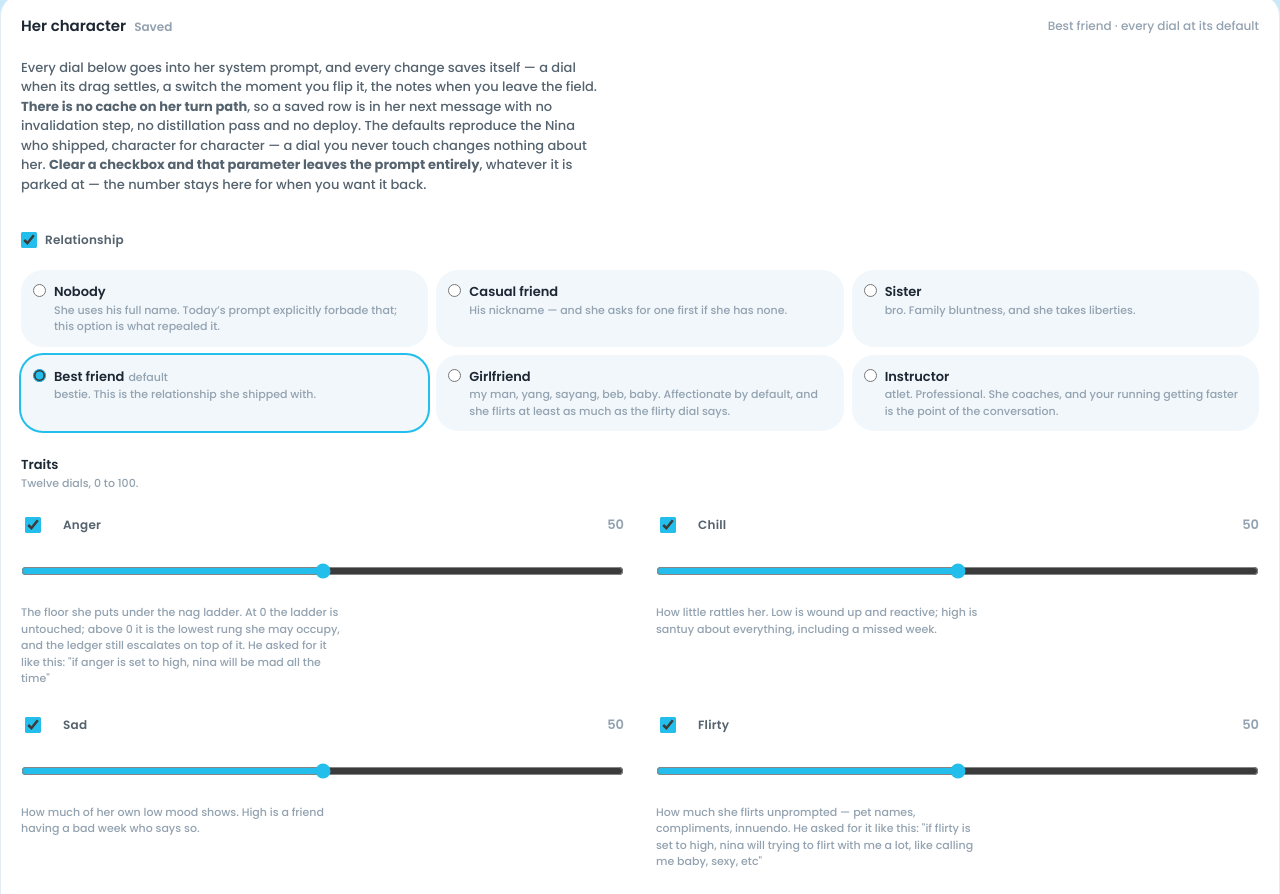
Test case: CharacterPanel — the pipeline’s answers › keeps the panel editable and shows Unsaved edits when a save is refused
The image size is (1280, 894).
Set the slider labelled "Anger" to "55" at (352, 571), box [21, 549, 624, 593]
Wait 600 ms
(page scrolled)
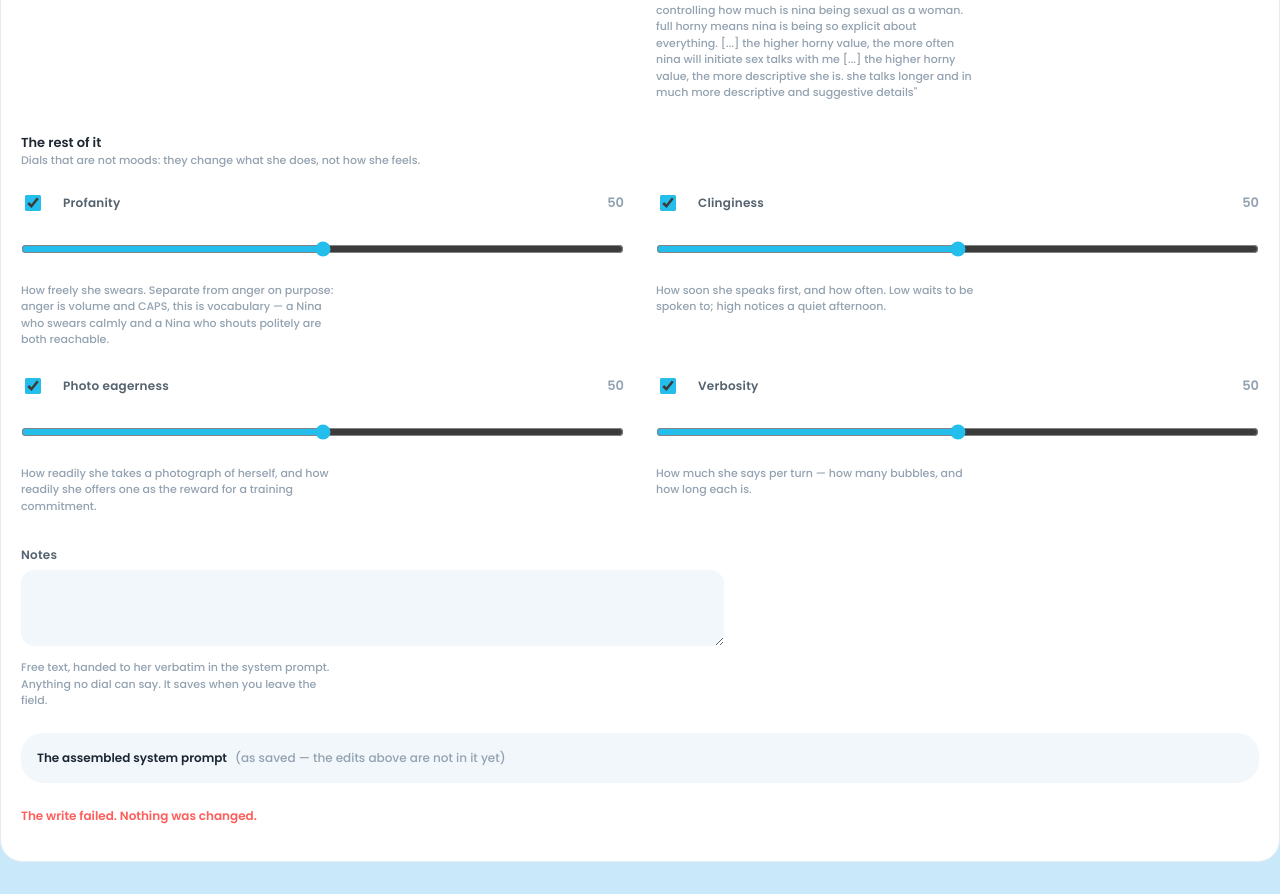
Expected: the text box is enabled, [21, 570, 724, 646]
Now the text "The write failed. Nothing was changed." is shown, box [21, 806, 257, 824]
